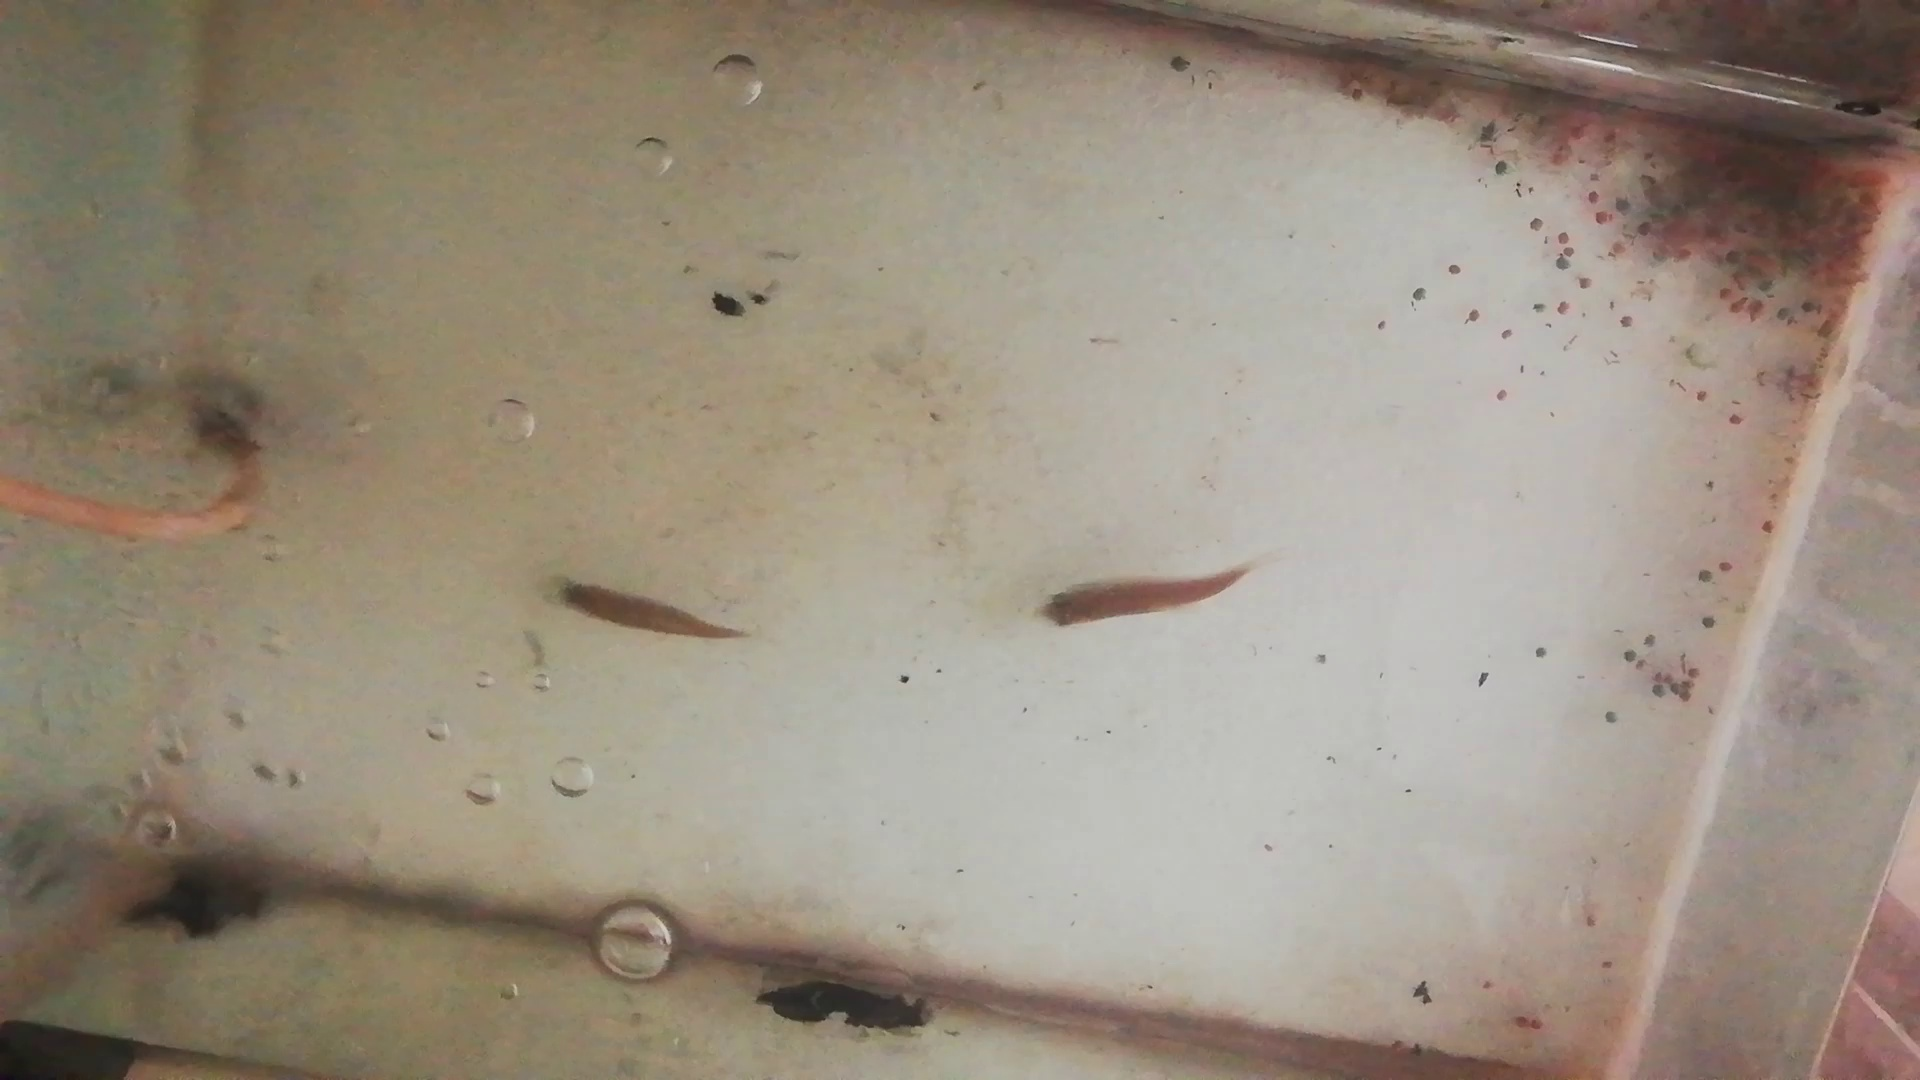fish: (549, 575, 744, 646), (1033, 566, 1247, 626)
